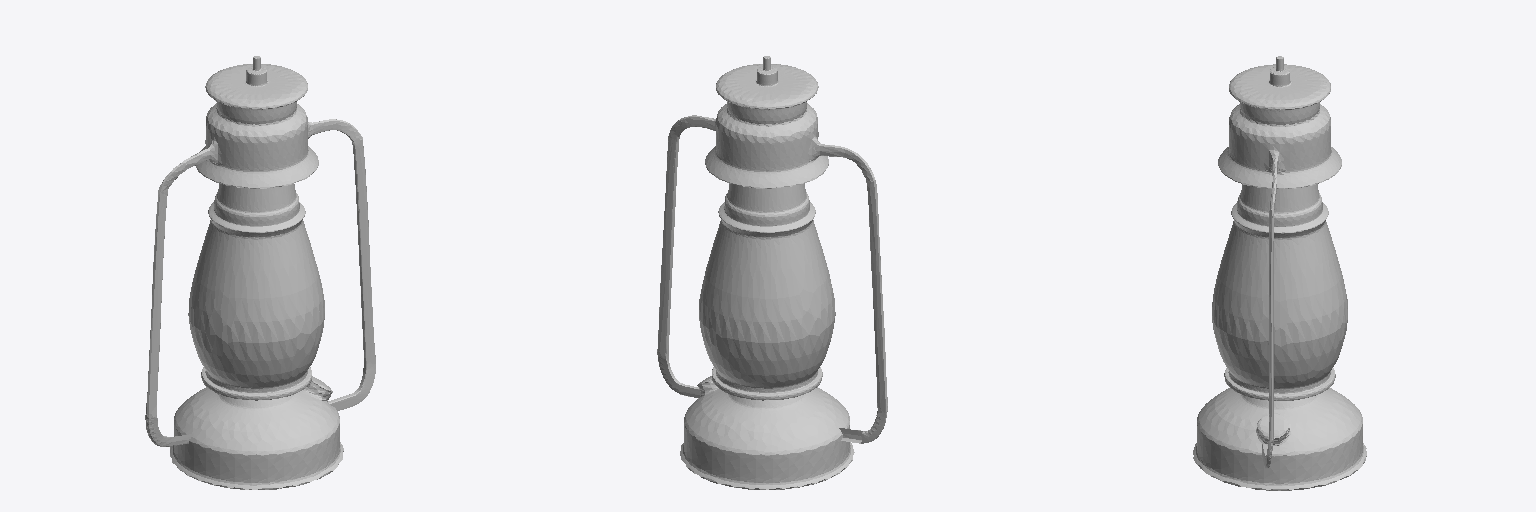
File: small_lamp.obj
The picture shows the model from 3 angles: view 1: azimuth 30°, elevation 25°; view 2: azimuth 150°, elevation 25°; view 3: azimuth 270°, elevation 25°; orthographic projection.
Parts seen in each view (by area): view 1: Cylinder; view 2: Cylinder; view 3: Cylinder.
Part boxes in pixels (left/top/right/bottom): Cylinder: left=145, top=56, right=375, bottom=489; Cylinder: left=657, top=56, right=887, bottom=489; Cylinder: left=1193, top=56, right=1366, bottom=490.
Bounding box in the file's own units: 0.7115 × 1.18 × 0.4685.